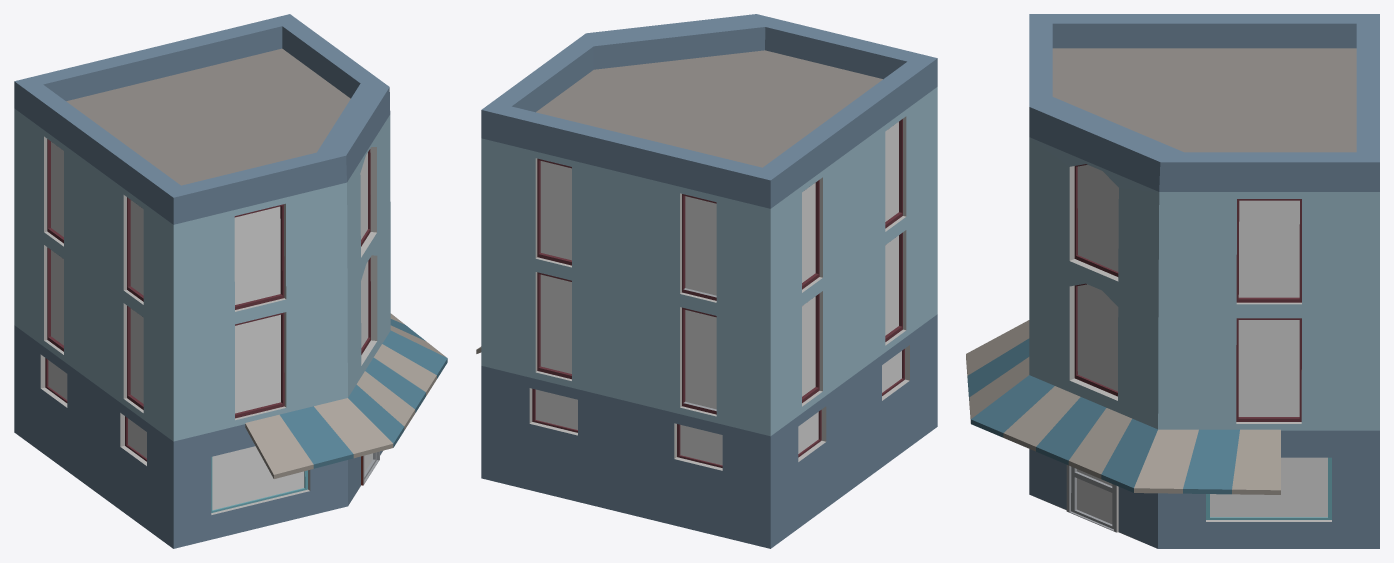
The model's file is SM_cafe_01_B.gltf.
3 views of the same model, side by side, from view 1: azimuth 30°, elevation 25°; view 2: azimuth 150°, elevation 25°; view 3: azimuth 270°, elevation 25° (orthographic). The views are drawn at different scales.
Parts seen in each view (by area): view 1: SM_cafe_01_B; view 2: SM_cafe_01_B; view 3: SM_cafe_01_B.
Boxes of the visible parts, x1,y1,x2,y2 form: SM_cafe_01_B: (14,14,447,548); SM_cafe_01_B: (476,14,937,548); SM_cafe_01_B: (966,14,1379,548).
Bounding box in the file's own units: 3.99 × 4.11 × 3.99.
